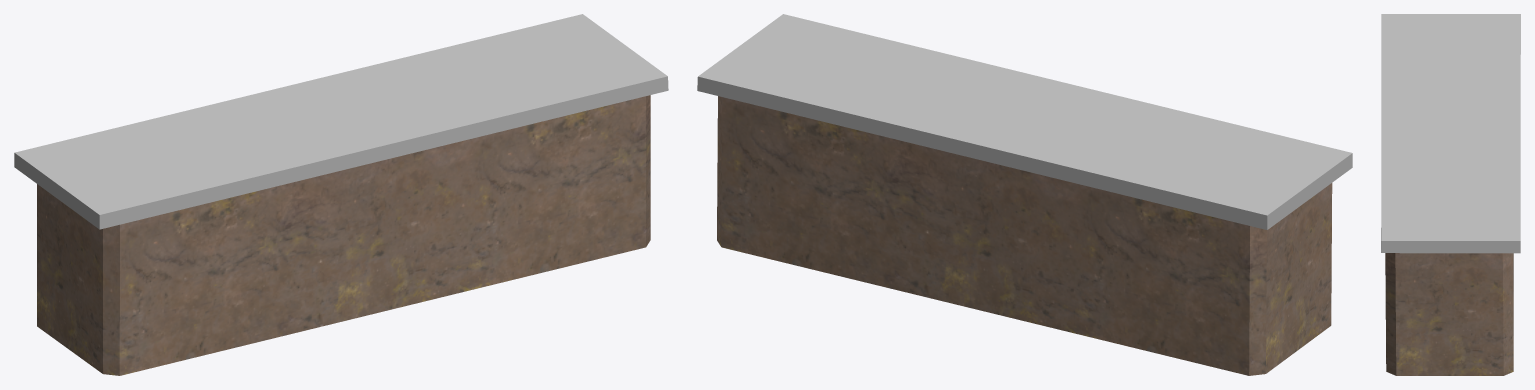
File: jovhouse_engawa02.fbx
3 views of the same model, side by side, from view 1: azimuth 30°, elevation 25°; view 2: azimuth 150°, elevation 25°; view 3: azimuth 270°, elevation 25° (orthographic). The views are drawn at different scales.
Visible parts, largest first — view 1: jovhouse_engawa02; view 2: jovhouse_engawa02; view 3: jovhouse_engawa02.
Part boxes in pixels (x1=…): jovhouse_engawa02: x1=14, y1=14, x2=668, y2=375; jovhouse_engawa02: x1=697, y1=14, x2=1352, y2=375; jovhouse_engawa02: x1=1381, y1=14, x2=1520, y2=375.
Size of the model in its own units: 308 by 87.51 by 80.05.
